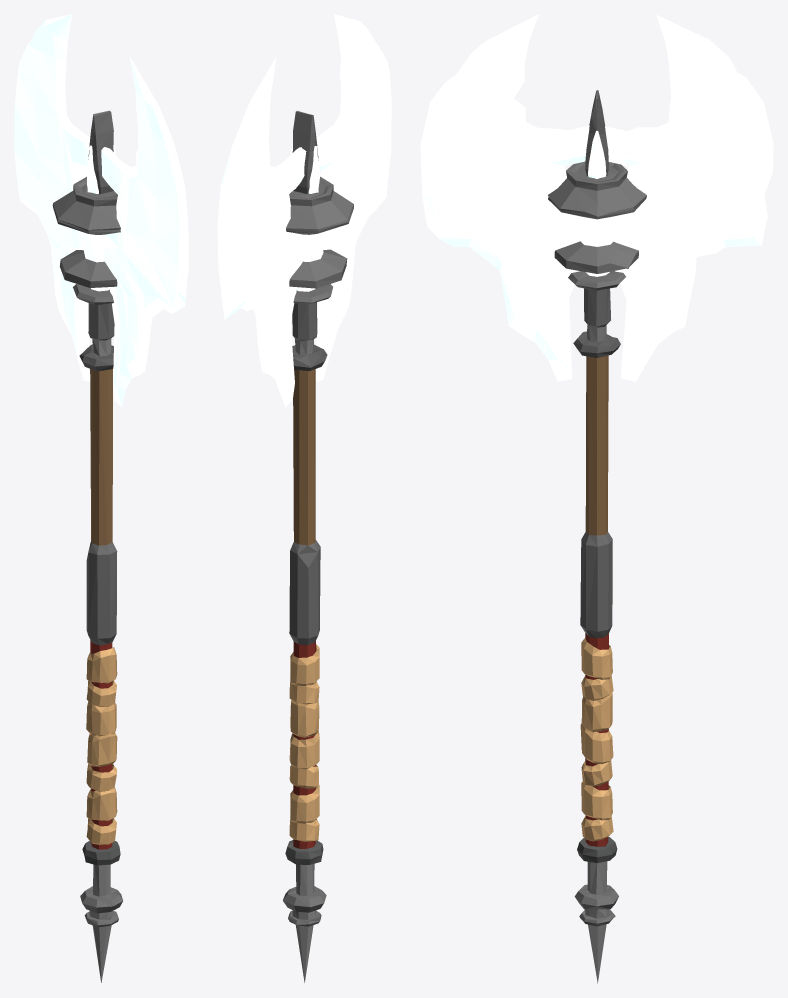
The model's file is SFFA_Weapon_Axe_Runical_001.fbx.
3 views of the same model, side by side, from view 1: azimuth 30°, elevation 25°; view 2: azimuth 150°, elevation 25°; view 3: azimuth 270°, elevation 25° (orthographic). The views are drawn at different scales.
Parts seen in each view (by area): view 1: SFFA_Weapon_Axe_Runical_001; view 2: SFFA_Weapon_Axe_Runical_001; view 3: SFFA_Weapon_Axe_Runical_001.
Boxes of the visible parts, left/top/right/bottom form: SFFA_Weapon_Axe_Runical_001: left=14, top=14, right=188, bottom=982; SFFA_Weapon_Axe_Runical_001: left=217, top=14, right=391, bottom=982; SFFA_Weapon_Axe_Runical_001: left=420, top=14, right=773, bottom=983.
Bounding box in the file's own units: 17.15 × 176 × 58.25.
